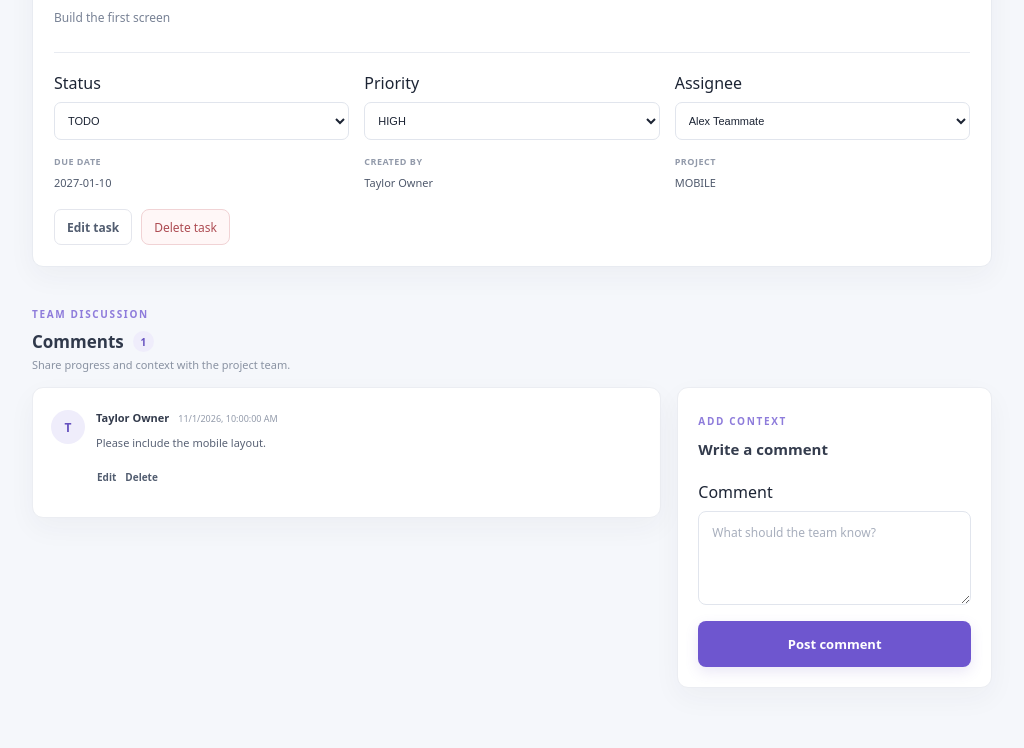
task pages › shows task details and posts a comment
(page scrolled)
Expected: the text "Please include the mobile layout." is shown, [96,435,266,450]
Step 1. Type "I will take this." into the text box labelled "Comment" → (835, 558), box [698,511,971,605]
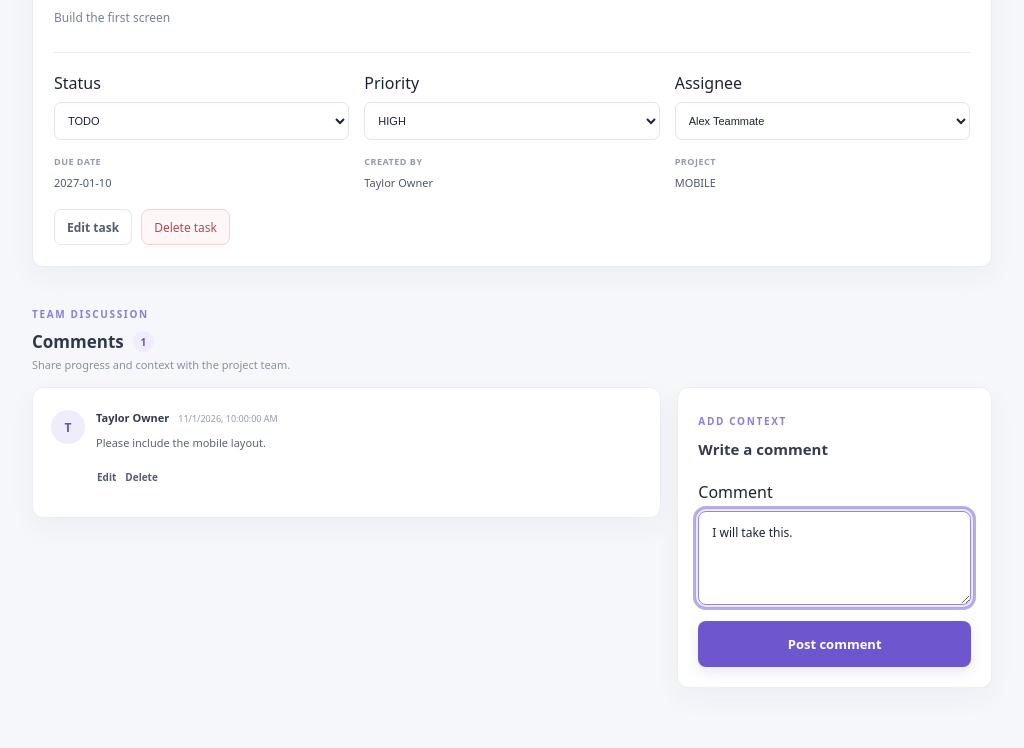
Step 2. Click the button "Post comment" → (835, 644), box [698,621,971,667]
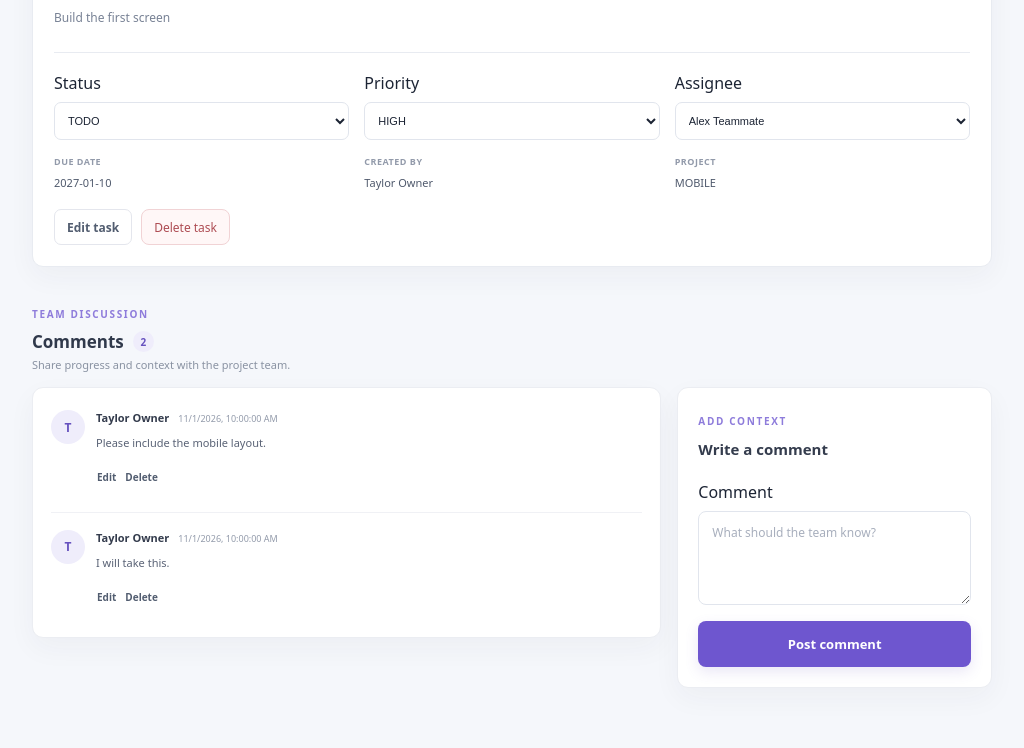
Expected: the text "I will take this." is shown, [96,555,170,570]
